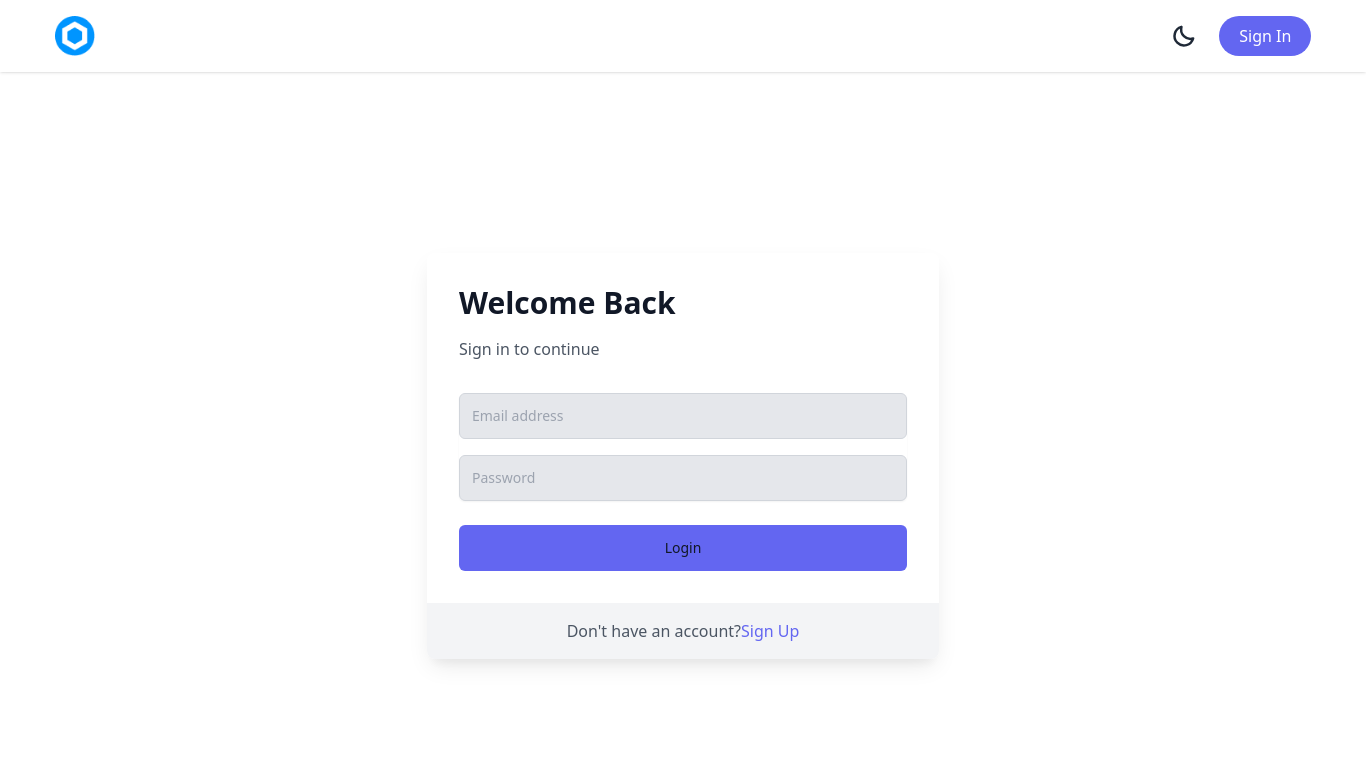
Test: Login Page › should login successfully and redirect to dashboard
Type "eve.holt@reqres.in" into the field named "email" at (683, 416), box [459, 393, 907, 439]
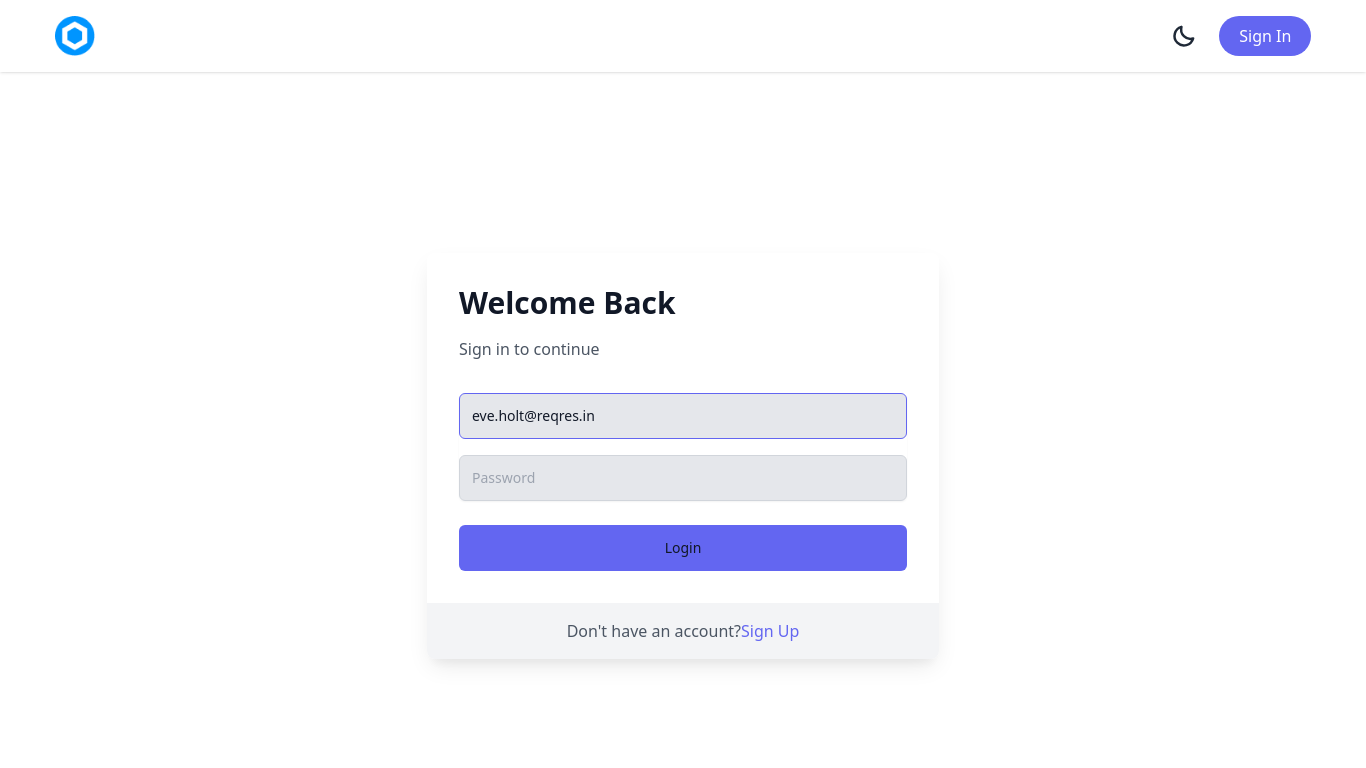
Type "cityslicka" into the password field named "password" at (683, 478), box [459, 455, 907, 501]
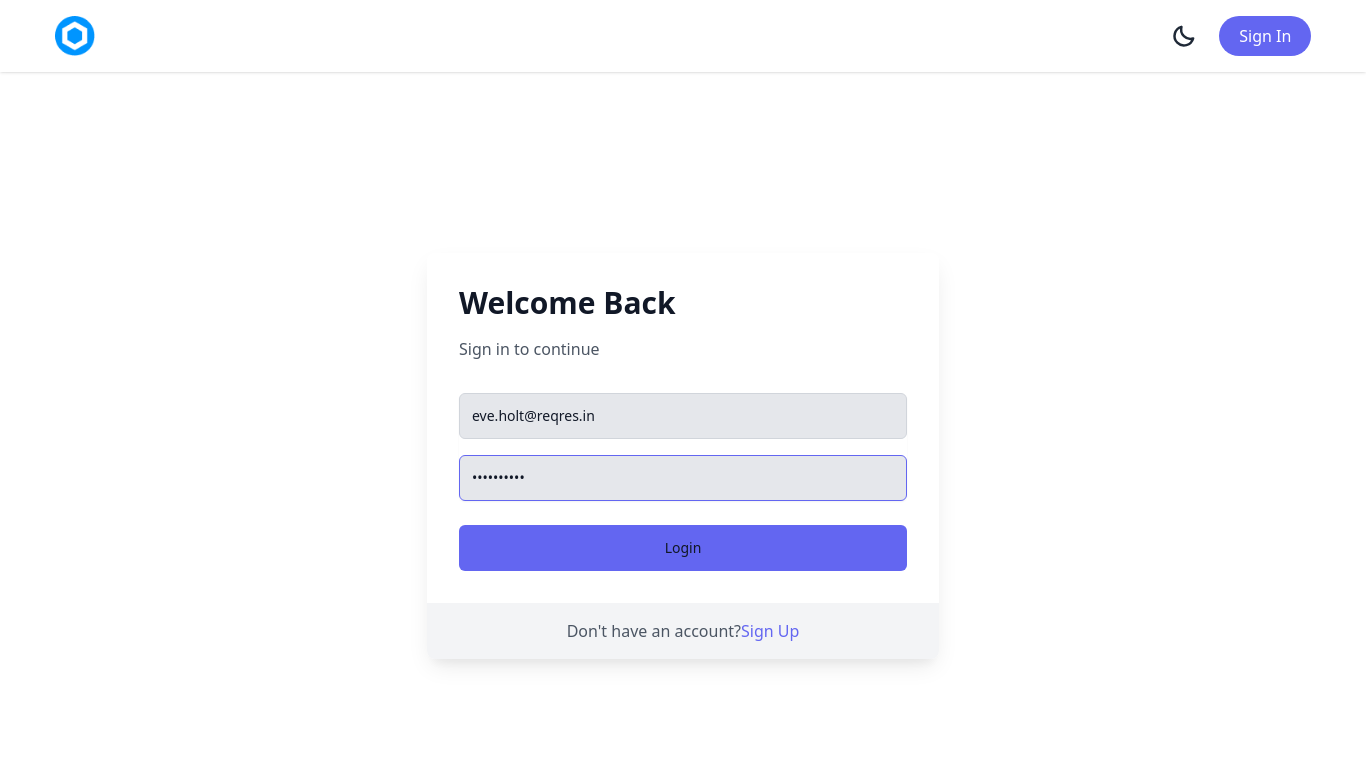
Click the submit button at (683, 548), box [459, 525, 907, 571]
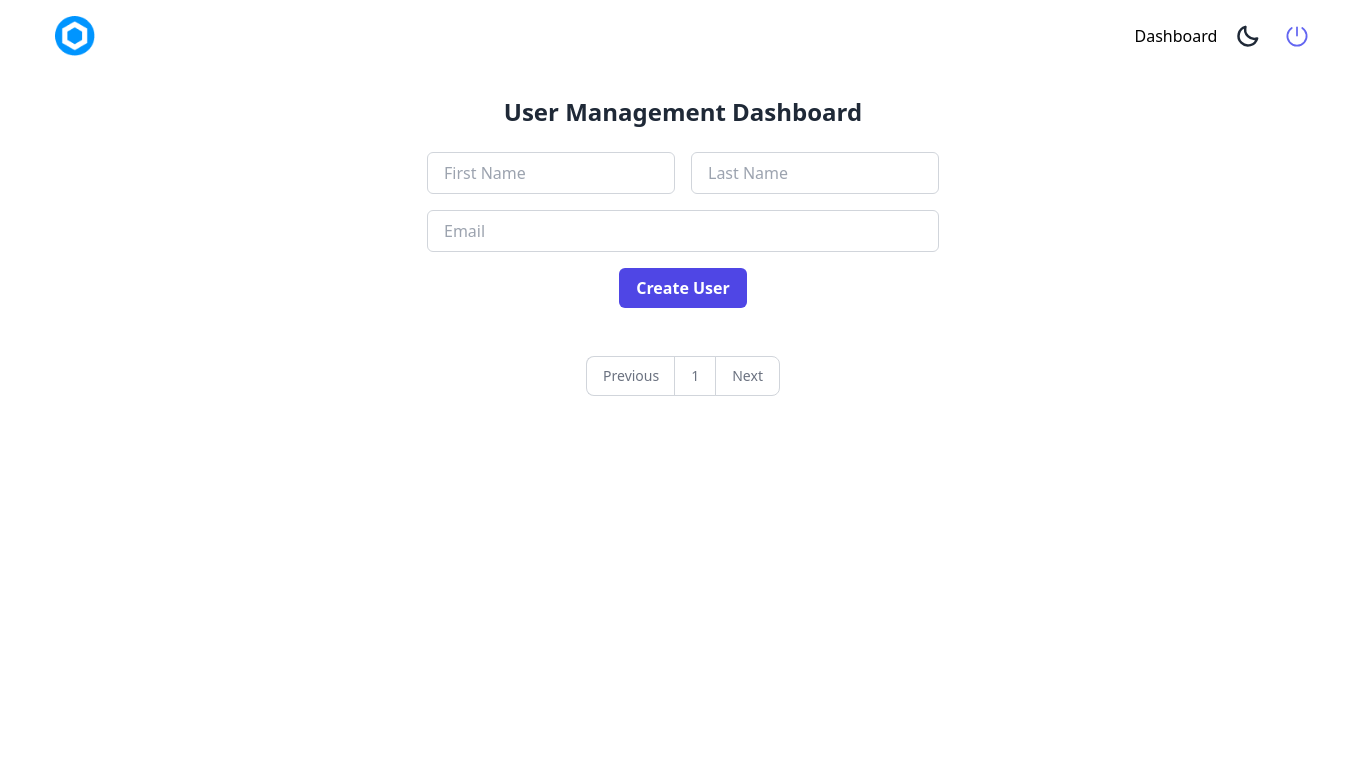
Expected: the link "Dashboard" is shown, [1134, 25, 1217, 47]
